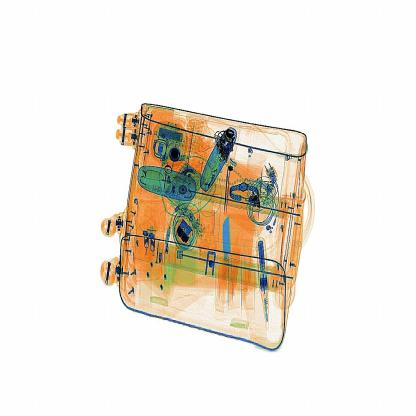wrench: (220, 214, 232, 284)
